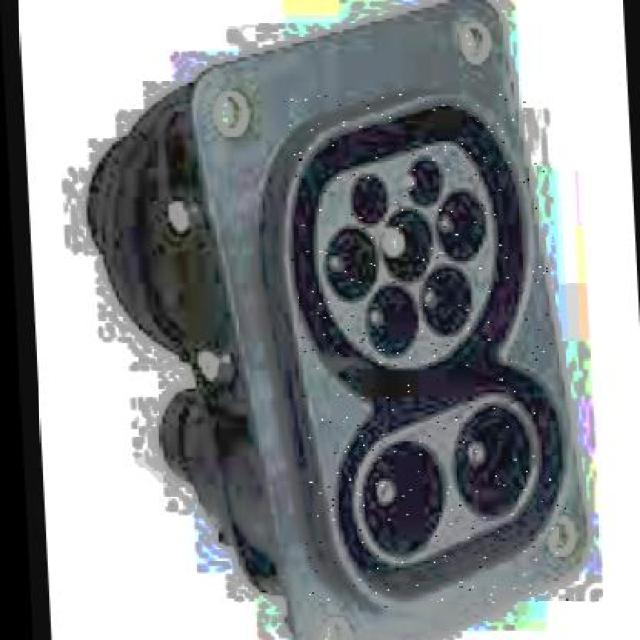CCS2: (280, 112, 555, 613)
